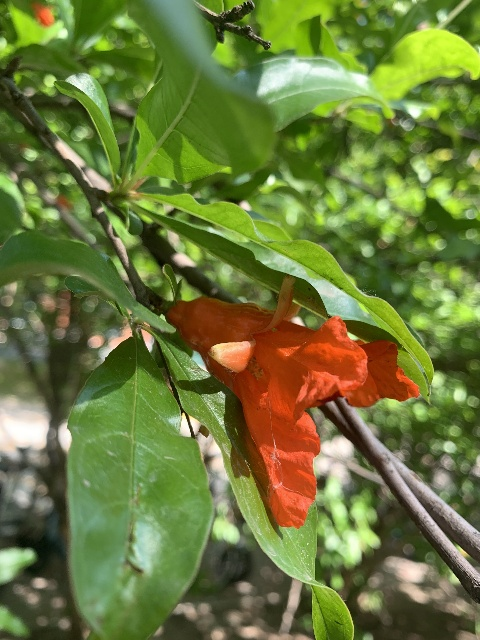flower: (165, 274, 419, 528)
